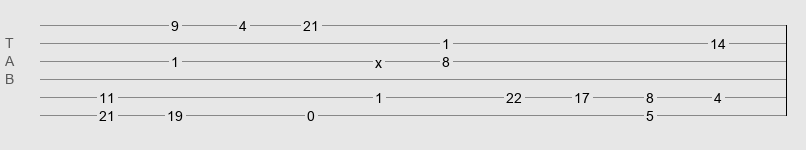0: (307, 108, 315, 118)
1: (171, 54, 179, 64), (375, 90, 383, 100), (442, 36, 450, 46)
11: (99, 90, 115, 100)
14: (710, 36, 726, 46)
17: (574, 90, 590, 100)
19: (167, 108, 183, 118)
21: (99, 108, 115, 118), (303, 18, 319, 28)
22: (506, 90, 522, 100)
4: (239, 18, 247, 28), (714, 90, 722, 100)
5: (646, 108, 654, 118)
8: (442, 54, 450, 64), (646, 90, 654, 100)
9: (171, 18, 179, 28)
x: (375, 55, 382, 63)
